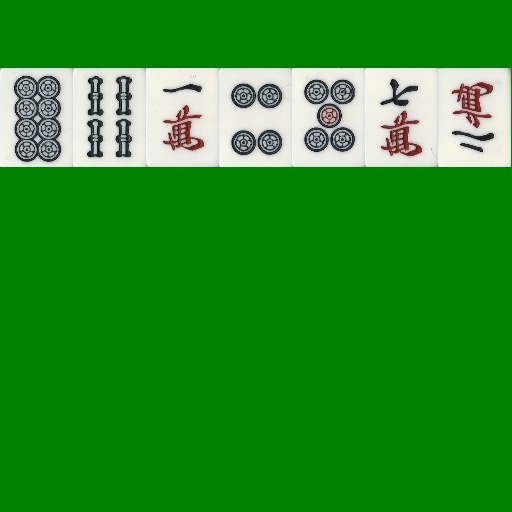1m: (146, 68, 219, 167)
2m: (438, 68, 511, 167)
4p: (219, 68, 292, 167)
4s: (73, 68, 146, 167)
5p: (292, 68, 365, 167)
7m: (365, 68, 438, 167)
8p: (0, 68, 73, 167)
